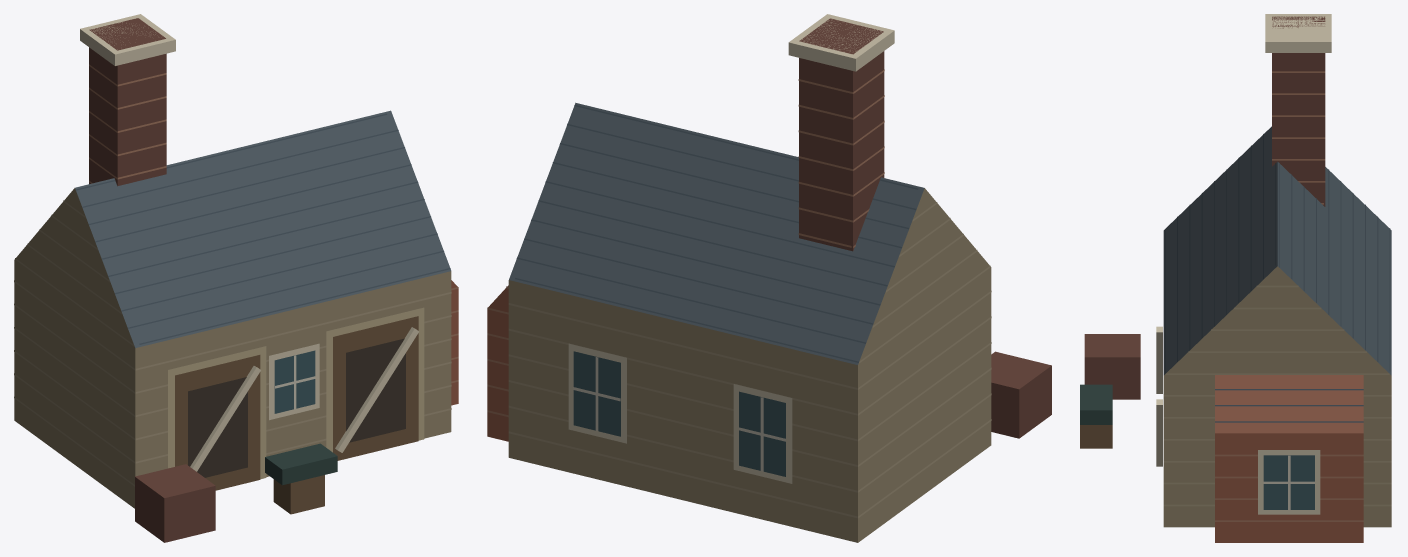
Rendered from 06-village-smithy.glb.
3 renders of one model, left to right at view 1: azimuth 30°, elevation 25°; view 2: azimuth 150°, elevation 25°; view 3: azimuth 270°, elevation 25°, orthographic. The views are drawn at different scales.
Visible parts, largest first — view 1: Village blacksmith forge; view 2: Village blacksmith forge; view 3: Village blacksmith forge.
Part boxes in pixels (x1,y1,x2,y2): Village blacksmith forge: [14, 14, 458, 542]; Village blacksmith forge: [487, 14, 1051, 542]; Village blacksmith forge: [1080, 14, 1391, 542].
Bounding box in the file's own units: 0.855 × 0.91 × 0.675.
